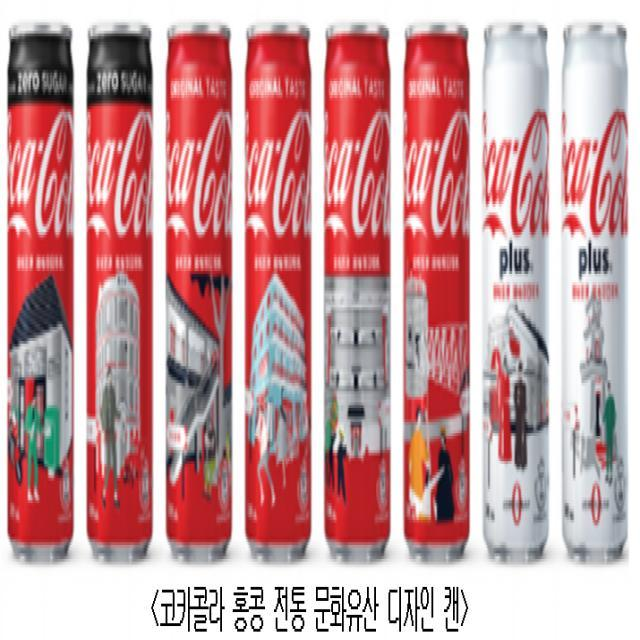coca-cola: (164, 9, 236, 573), (244, 9, 316, 565), (6, 15, 76, 573), (85, 12, 155, 570), (323, 11, 393, 565), (402, 2, 470, 570)
